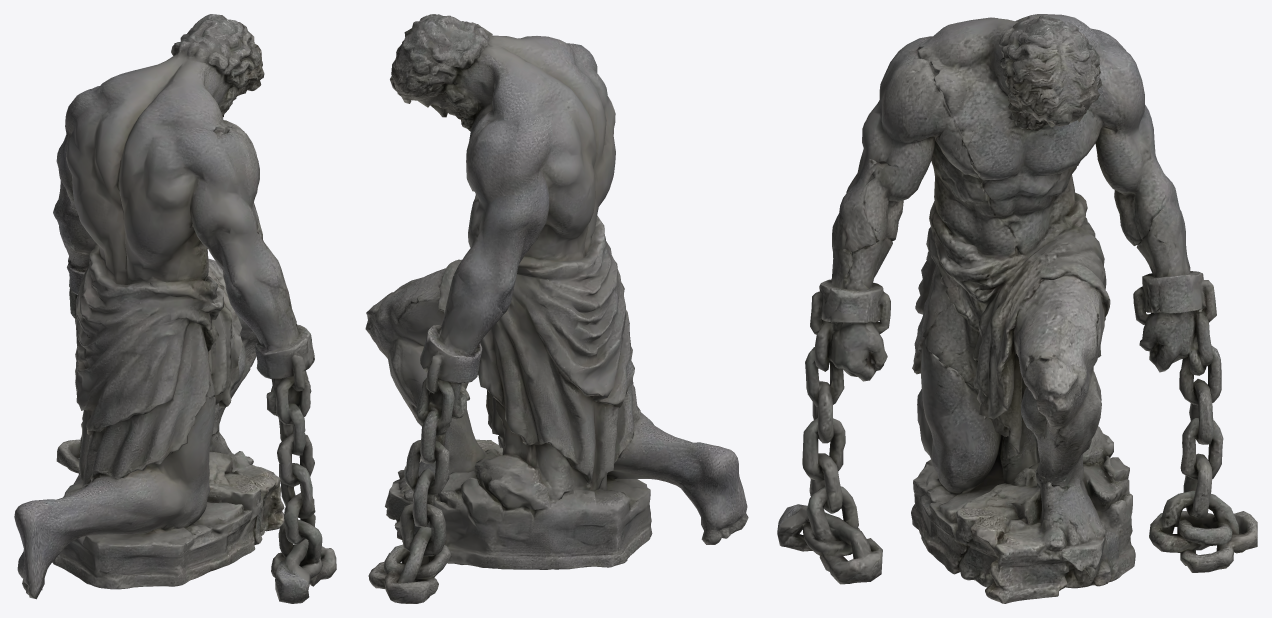
File: titan.glb
3 renders of one model, left to right at view 1: azimuth 30°, elevation 25°; view 2: azimuth 150°, elevation 25°; view 3: azimuth 270°, elevation 25°, orthographic. The views are drawn at different scales.
Visible parts, largest first — view 1: tripo_node_5992e268-f80d-42af-a3ff-fedb2cef4f9a; view 2: tripo_node_5992e268-f80d-42af-a3ff-fedb2cef4f9a; view 3: tripo_node_5992e268-f80d-42af-a3ff-fedb2cef4f9a.
Boxes of the visible parts, x1,y1,x2,y2 form: tripo_node_5992e268-f80d-42af-a3ff-fedb2cef4f9a: (14, 14, 336, 603); tripo_node_5992e268-f80d-42af-a3ff-fedb2cef4f9a: (365, 14, 748, 603); tripo_node_5992e268-f80d-42af-a3ff-fedb2cef4f9a: (777, 14, 1257, 603).
Bounding box in the file's own units: 0.6543 × 1 × 0.7815.
1 material, 1 textured.
